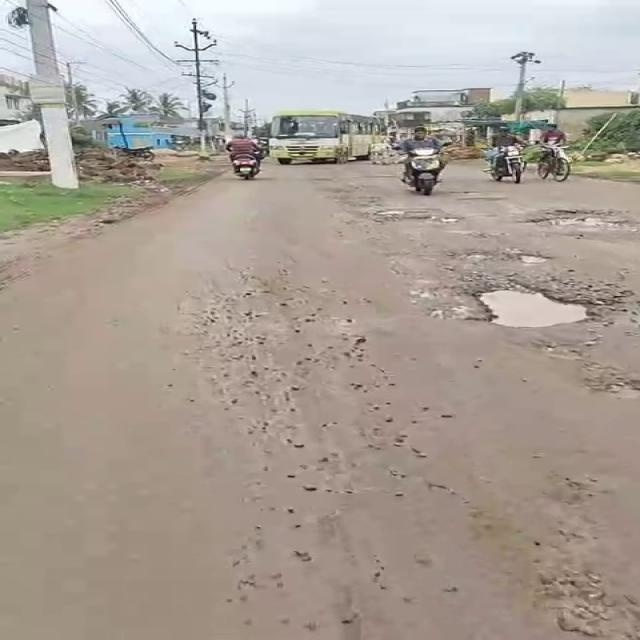pothole: (532, 580, 632, 633), (468, 283, 591, 324), (558, 477, 598, 542), (589, 360, 640, 403), (514, 340, 616, 360), (522, 217, 632, 233), (542, 203, 619, 217), (332, 192, 391, 206), (365, 208, 421, 222), (423, 212, 467, 226), (507, 253, 552, 266), (445, 248, 488, 261), (428, 308, 468, 320), (458, 192, 502, 202), (404, 285, 436, 298)
